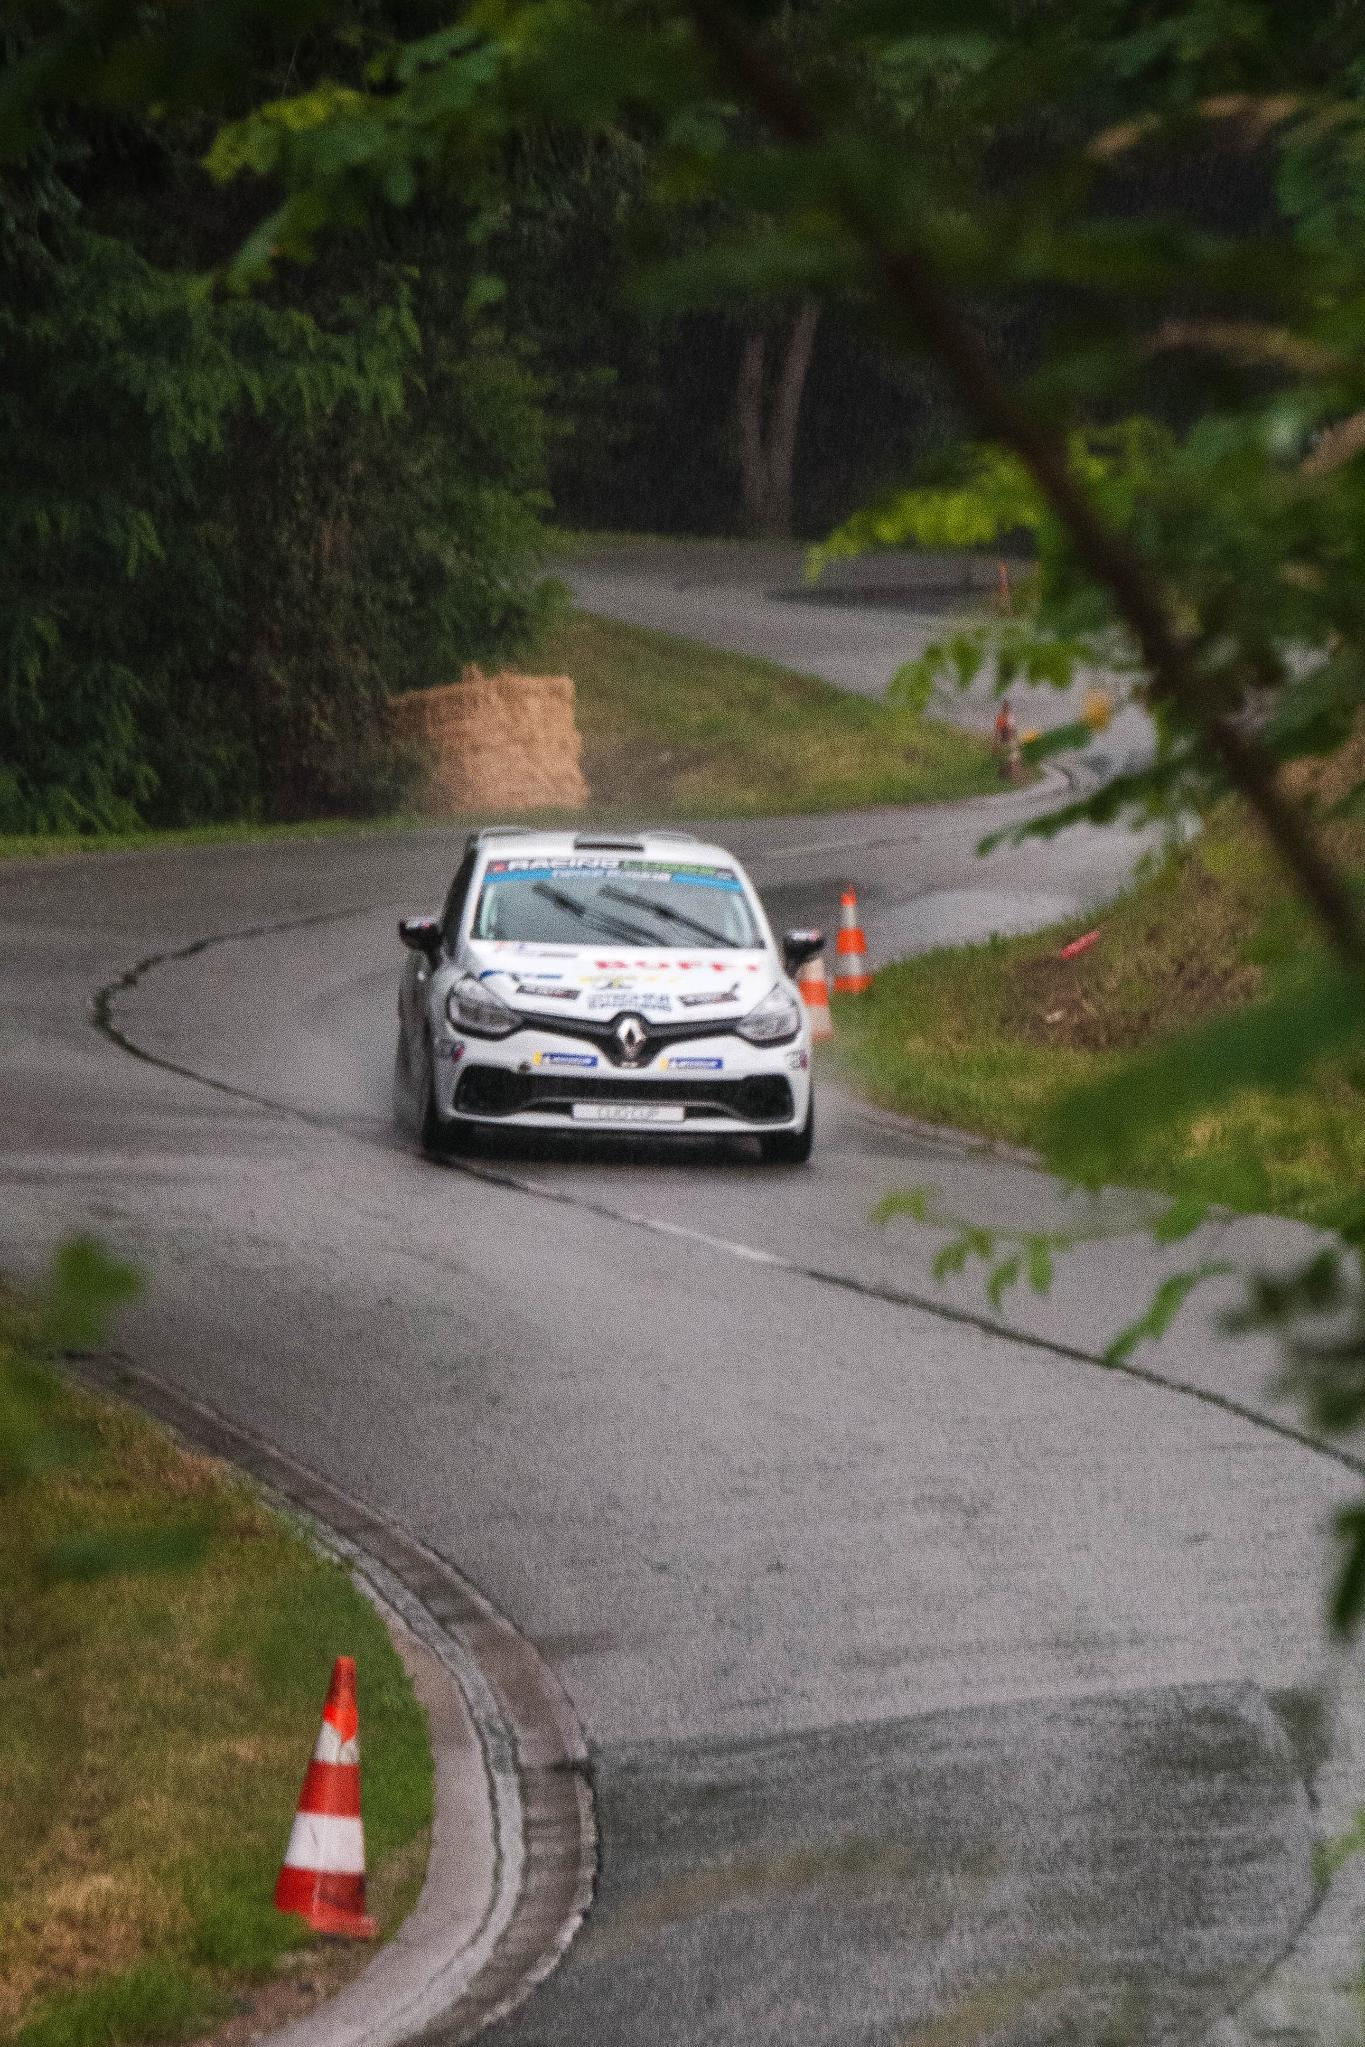Renault: (597, 1008, 660, 1081)
